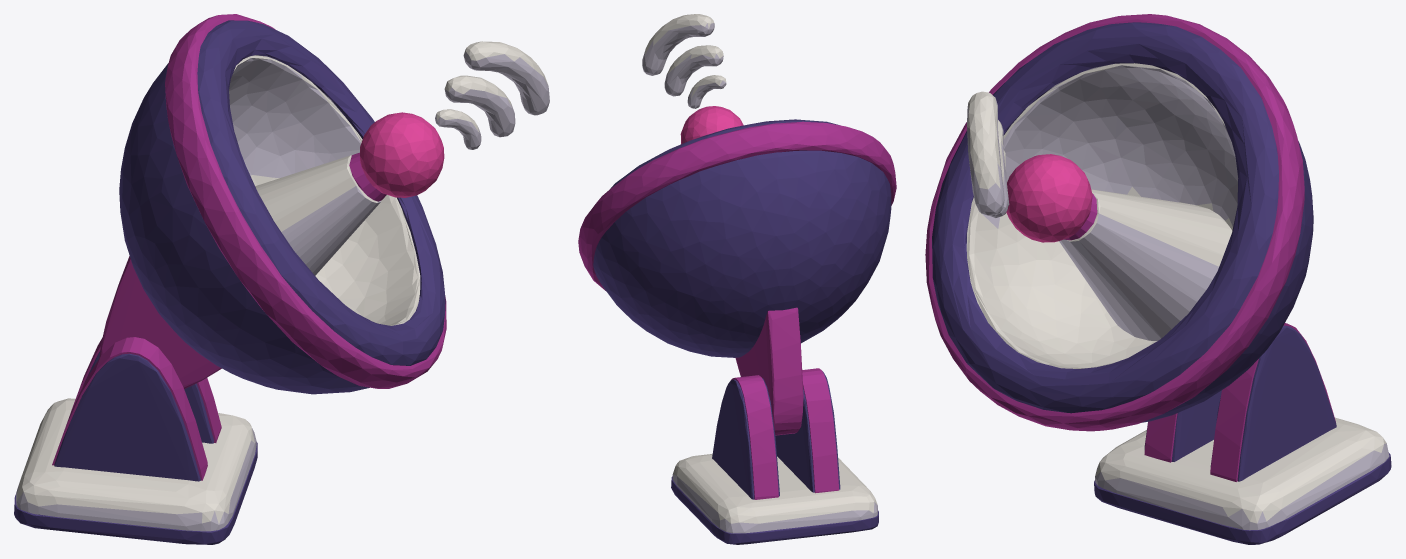
Rendered from antena.glb.
The picture shows the model from 3 angles, left to right: view 1: azimuth 30°, elevation 25°; view 2: azimuth 150°, elevation 25°; view 3: azimuth 270°, elevation 25°; orthographic projection. The views are drawn at different scales.
Parts seen in each view (by area): view 1: antena; view 2: antena; view 3: antena.
Boxes of the visible parts, box(x1,y1,x2,y2) form: antena: box(14, 14, 549, 544); antena: box(578, 14, 896, 544); antena: box(925, 14, 1391, 544).
Bounding box in the file's own units: 1 × 1.13 × 0.9397.
